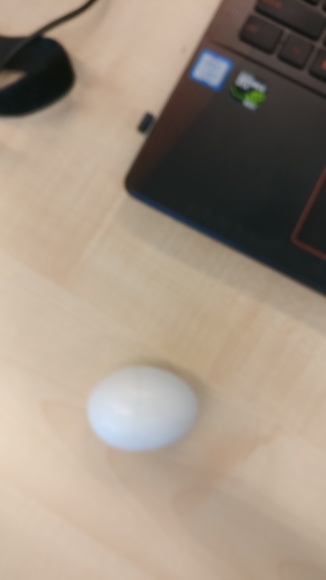egg: (87, 364, 198, 453)
